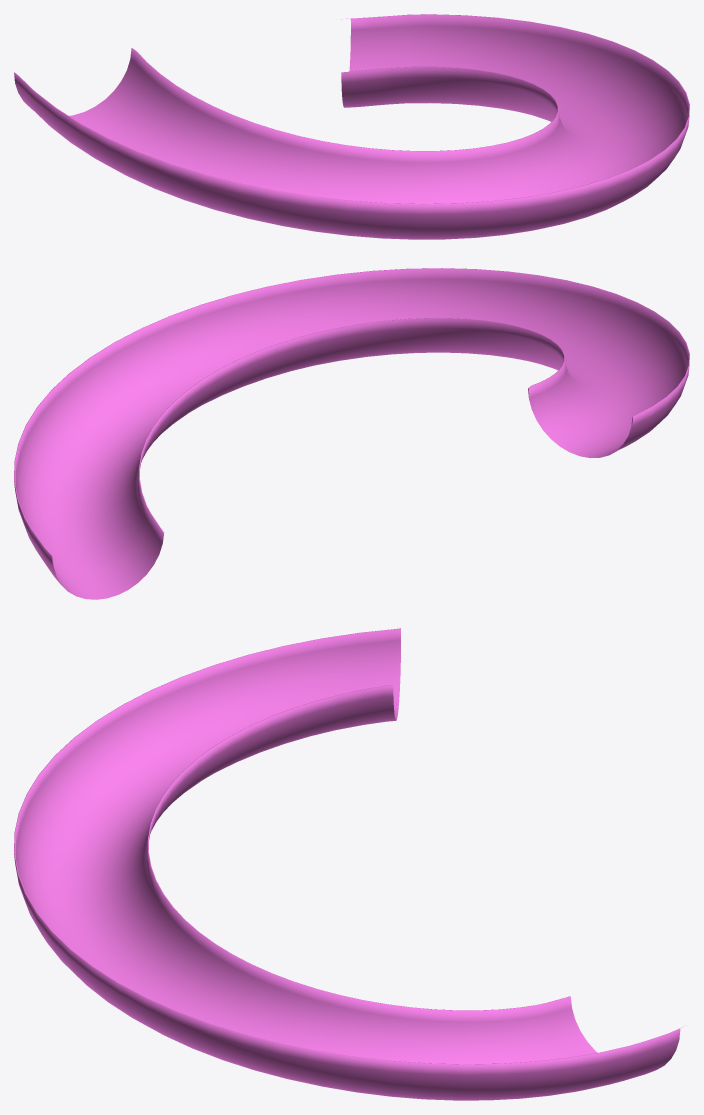
The model's file is kaydırak.fbx.
The picture shows the model from 3 angles, top to bottom: view 1: azimuth 30°, elevation 25°; view 2: azimuth 150°, elevation 25°; view 3: azimuth 270°, elevation 25°; orthographic projection. The views are drawn at different scales.
Visible parts, largest first — view 1: yatayboru.003; view 2: yatayboru.003; view 3: yatayboru.003.
Part boxes in pixels (<box>): yatayboru.003: <box>14,14,689,239</box>; yatayboru.003: <box>14,268,689,599</box>; yatayboru.003: <box>14,628,682,1100</box>.
Size of the model in its own units: 803 by 272 by 749.
